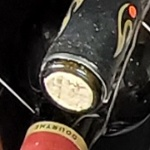bottle: (29, 43, 121, 126)
